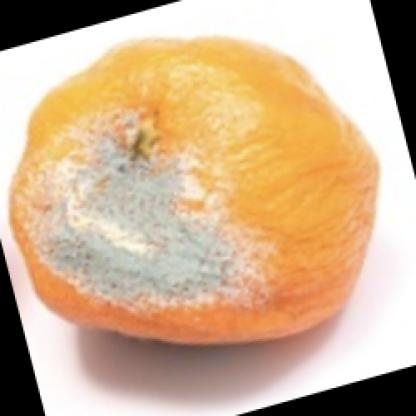rotten_orange: (6, 20, 384, 365)
